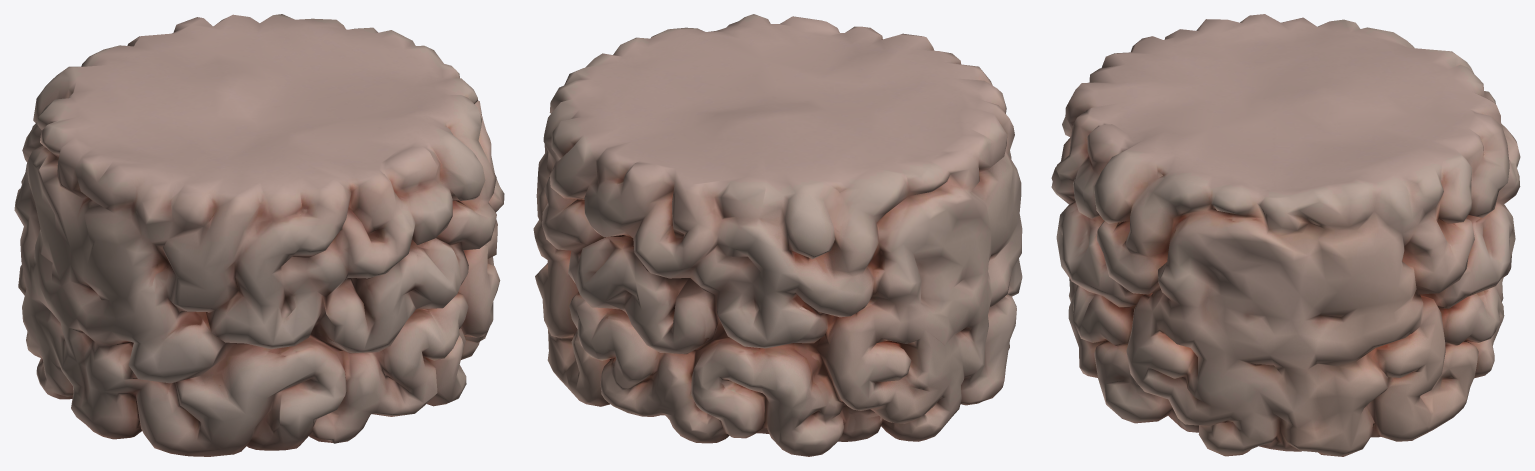
File: output desk 3d model.glb
3 renders of one model, left to right at view 1: azimuth 30°, elevation 25°; view 2: azimuth 150°, elevation 25°; view 3: azimuth 270°, elevation 25°, orthographic.
Parts seen in each view (by area): view 1: tripo_node_9b40c7b3-da05-4f06-80e3-219083565a0e; view 2: tripo_node_9b40c7b3-da05-4f06-80e3-219083565a0e; view 3: tripo_node_9b40c7b3-da05-4f06-80e3-219083565a0e.
Boxes of the visible parts, x1,y1,x2,y2 form: tripo_node_9b40c7b3-da05-4f06-80e3-219083565a0e: (14, 14, 504, 456); tripo_node_9b40c7b3-da05-4f06-80e3-219083565a0e: (533, 14, 1022, 456); tripo_node_9b40c7b3-da05-4f06-80e3-219083565a0e: (1051, 14, 1520, 456).
Bounding box in the file's own units: 0.9817 × 0.6357 × 0.9823.
Materials: 1 (1 with a texture image).
